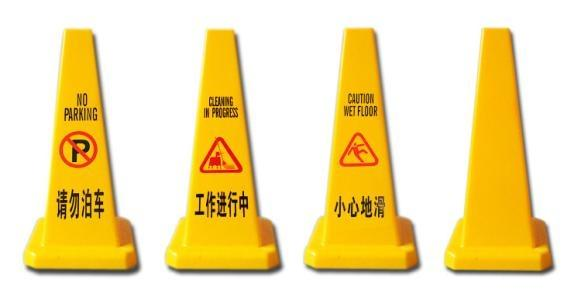cone_barrel: (301, 31, 420, 271), (164, 33, 282, 271), (21, 34, 139, 272), (445, 35, 552, 267)
